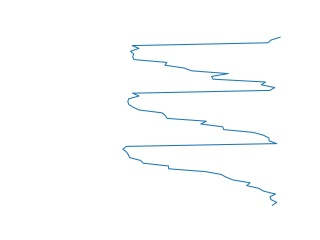distributaryMouthBar: (122, 34, 286, 209)
